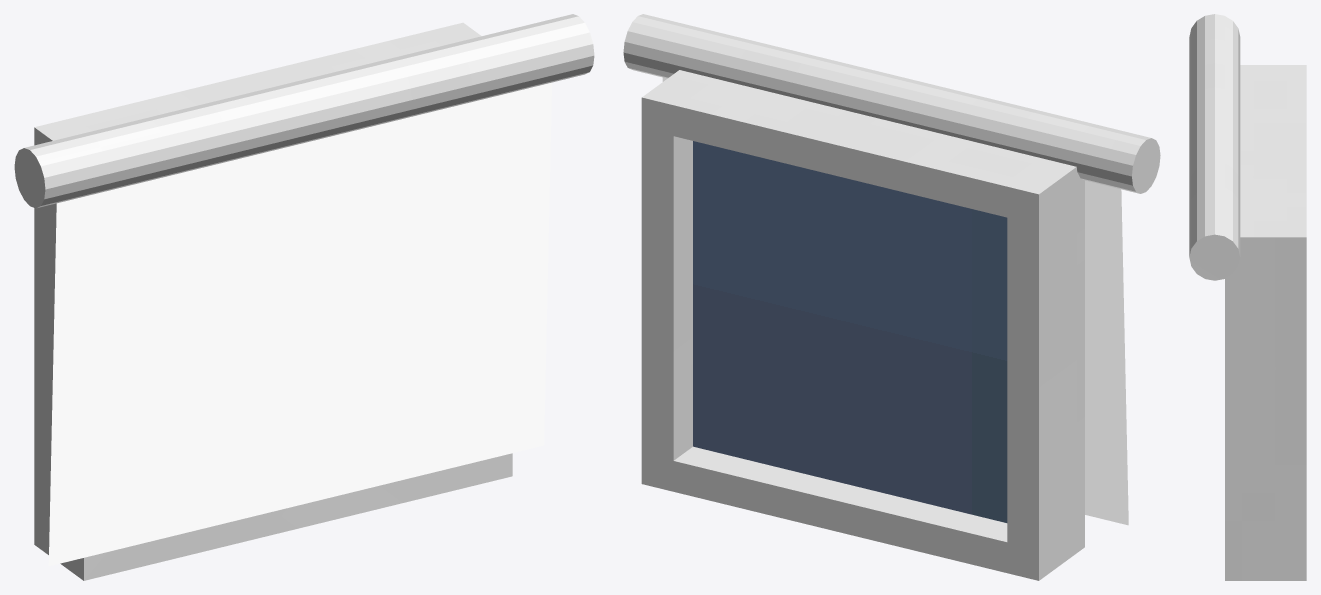
File: window.glb
3 renders of one model, left to right at view 1: azimuth 30°, elevation 25°; view 2: azimuth 150°, elevation 25°; view 3: azimuth 270°, elevation 25°, orthographic. The views are drawn at different scales.
Parts seen in each view (by area): view 1: Cylinder.003, Cylinder.002, frame.001; view 2: window-glass-col.001, frame.001, Cylinder.002, Cylinder.003; view 3: frame.001, Cylinder.002.
Boxes of the visible parts, x1,y1,x2,y2 form: Cylinder.003: [48, 82, 551, 566]; Cylinder.002: [14, 14, 594, 208]; frame.001: [34, 22, 512, 580]; window-glass-col.001: [693, 141, 1007, 522]; frame.001: [641, 70, 1084, 580]; Cylinder.002: [623, 14, 1160, 193]; Cylinder.003: [662, 77, 1128, 525]; frame.001: [1225, 65, 1306, 580]; Cylinder.002: [1189, 14, 1240, 280].
Bounding box in the file's own units: 2.05 × 1.6 × 0.46.
Materials: 2 (1 with a texture image).
